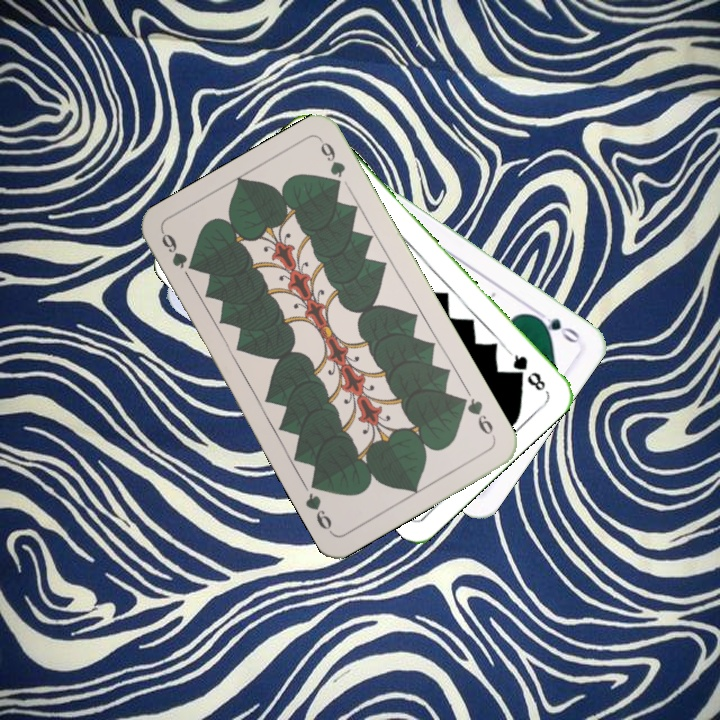G8: (505, 348, 548, 393)
G9: (455, 392, 499, 442), (157, 228, 197, 273)
GO: (529, 305, 583, 346)
